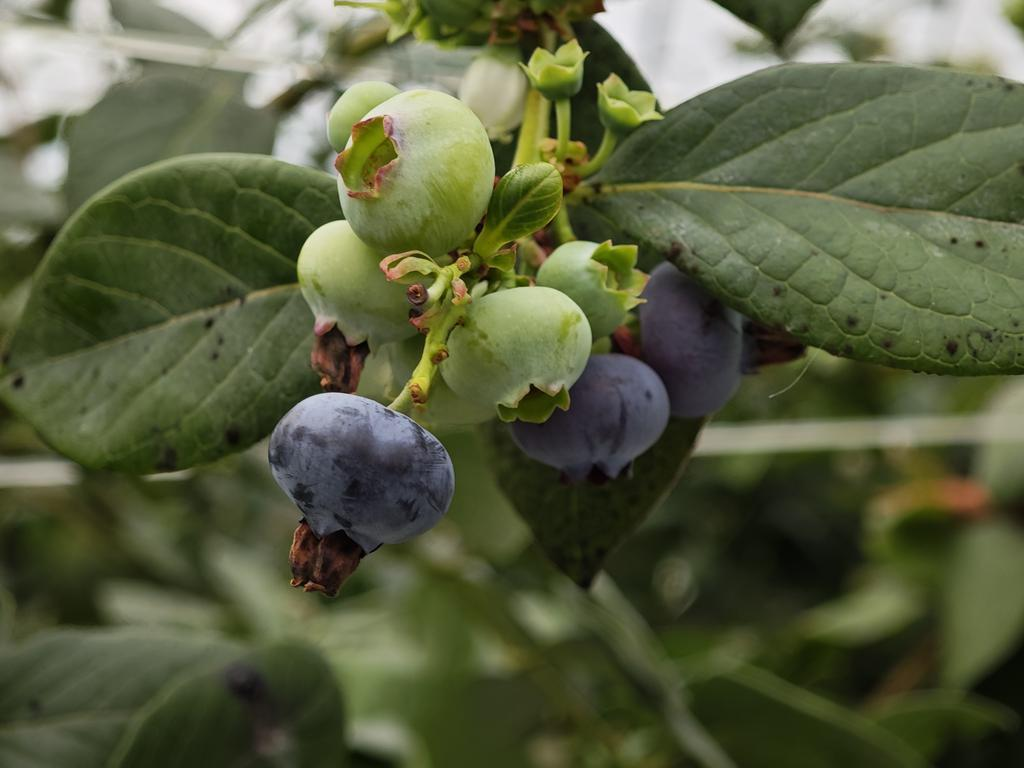RipeBlueBerry: (268, 391, 455, 558), (642, 257, 763, 422), (515, 356, 670, 479)
UnripeBlueBerry: (333, 88, 495, 250), (443, 285, 592, 420), (297, 220, 435, 352)
